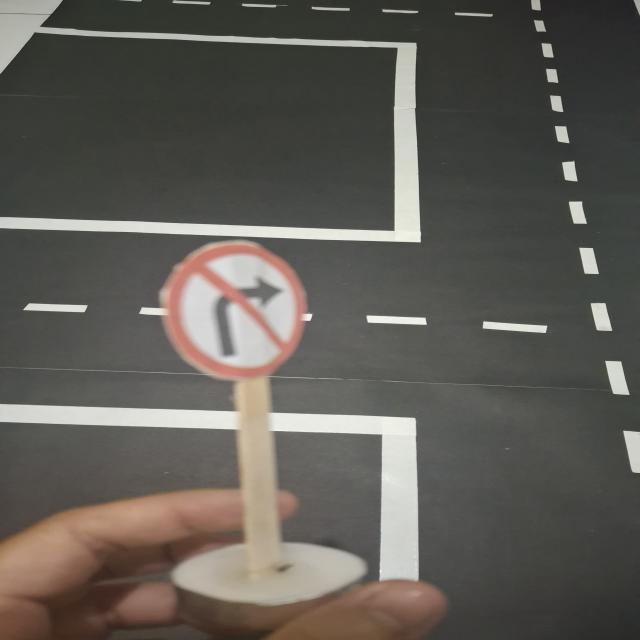Dilarang Belok Kanan: (162, 238, 309, 379)
